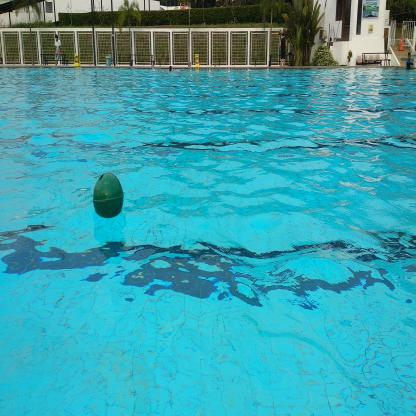green_buoy: (90, 167, 127, 226)
